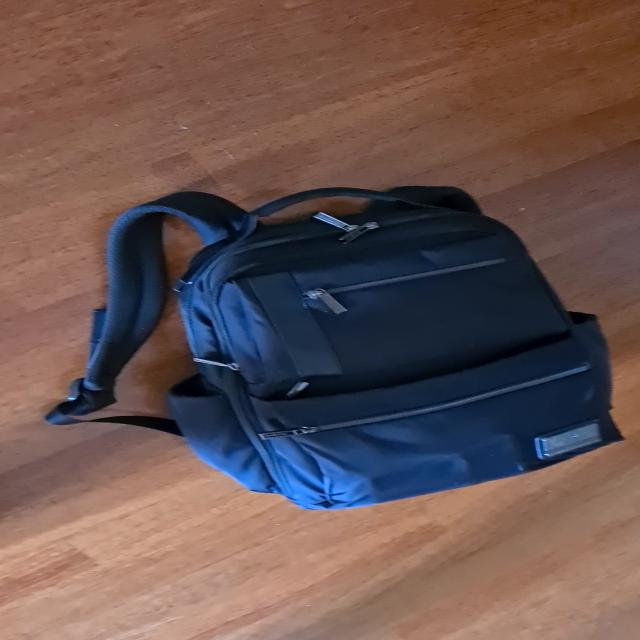backpack: (103, 173, 628, 523)
